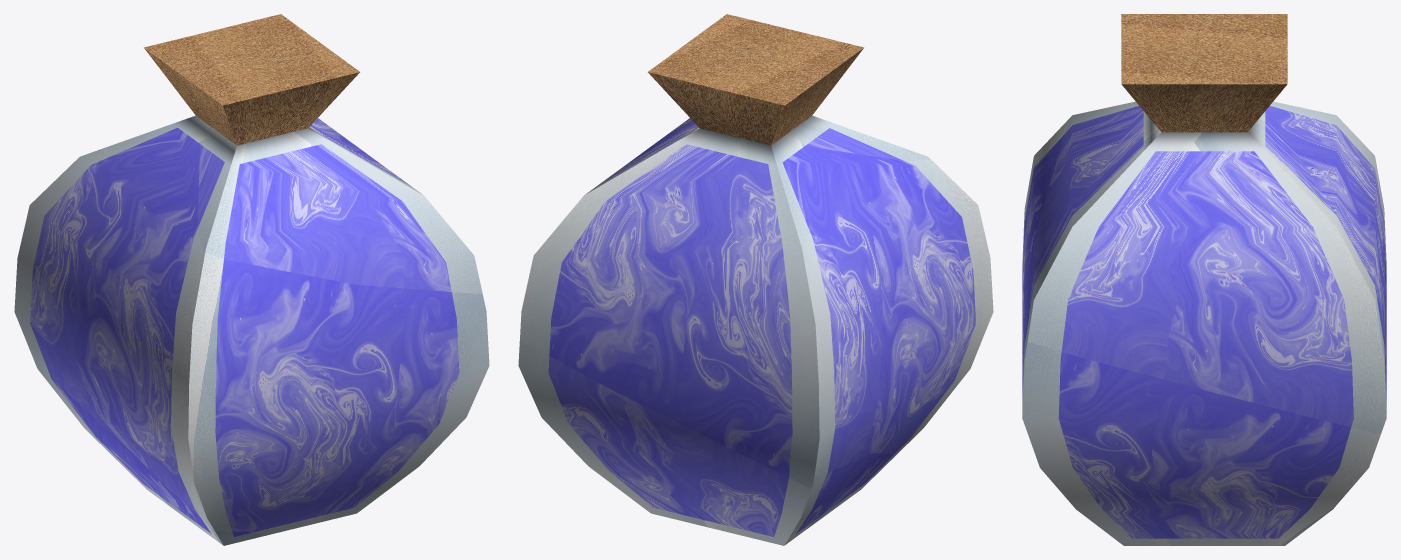
File: potion1.fbx
The picture shows the model from 3 angles, left to right: view 1: azimuth 30°, elevation 25°; view 2: azimuth 150°, elevation 25°; view 3: azimuth 270°, elevation 25°; orthographic projection. The views are drawn at different scales.
Visible parts, largest first — view 1: position; view 2: position; view 3: position.
Part boxes in pixels (left/top/right/bottom): position: left=14, top=14, right=489, bottom=545; position: left=518, top=14, right=993, bottom=545; position: left=1022, top=14, right=1386, bottom=545.
Size of the model in its own units: 0.7264 by 1.02 by 0.7264.
Materials: 3 (3 with a texture image).
